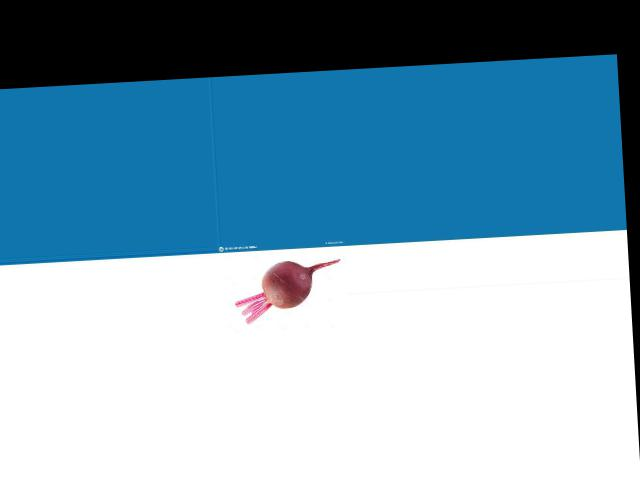beet: (233, 258, 342, 323)
